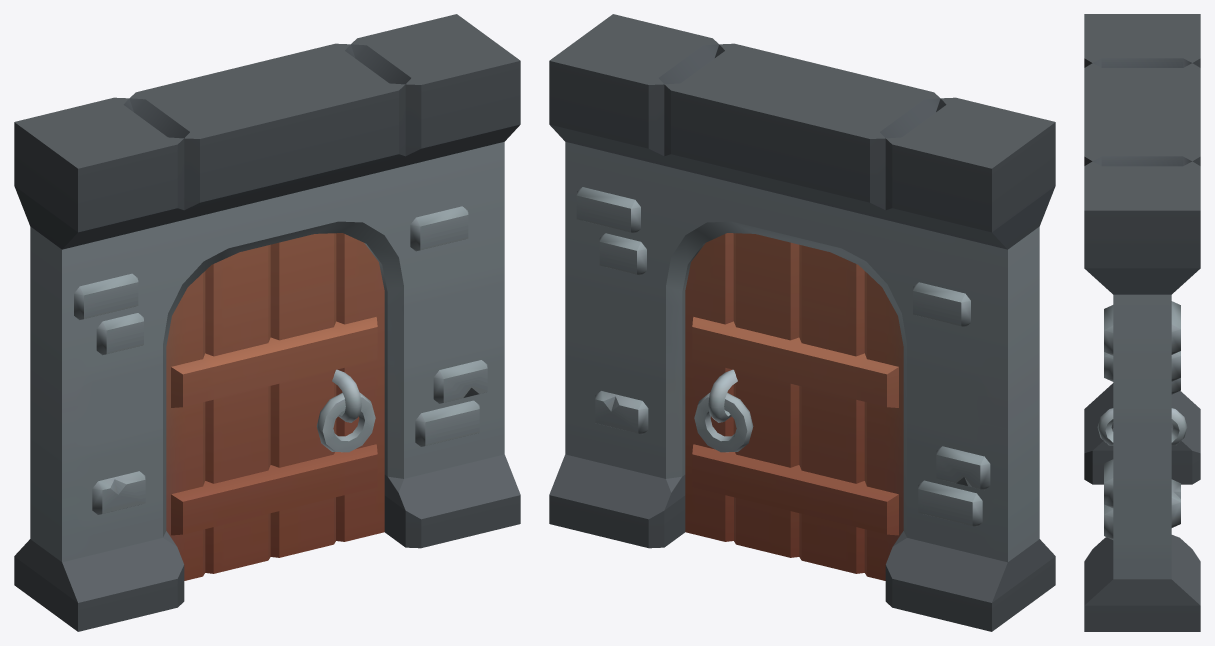
The model's file is wall_doorway.glb.
3 renders of one model, left to right at view 1: azimuth 30°, elevation 25°; view 2: azimuth 150°, elevation 25°; view 3: azimuth 270°, elevation 25°, orthographic. The views are drawn at different scales.
Visible parts, largest first — view 1: wall_doorway, wall_doorway_door; view 2: wall_doorway, wall_doorway_door; view 3: wall_doorway, wall_doorway_door.
Part boxes in pixels (x1,y1,x2,y2): wall_doorway: [14, 14, 520, 631]; wall_doorway_door: [166, 233, 384, 580]; wall_doorway: [549, 14, 1055, 631]; wall_doorway_door: [685, 233, 903, 580]; wall_doorway: [1084, 14, 1200, 631]; wall_doorway_door: [1097, 408, 1187, 445].
Size of the model in its own units: 4 by 4 by 1.
1 material, 1 textured.
